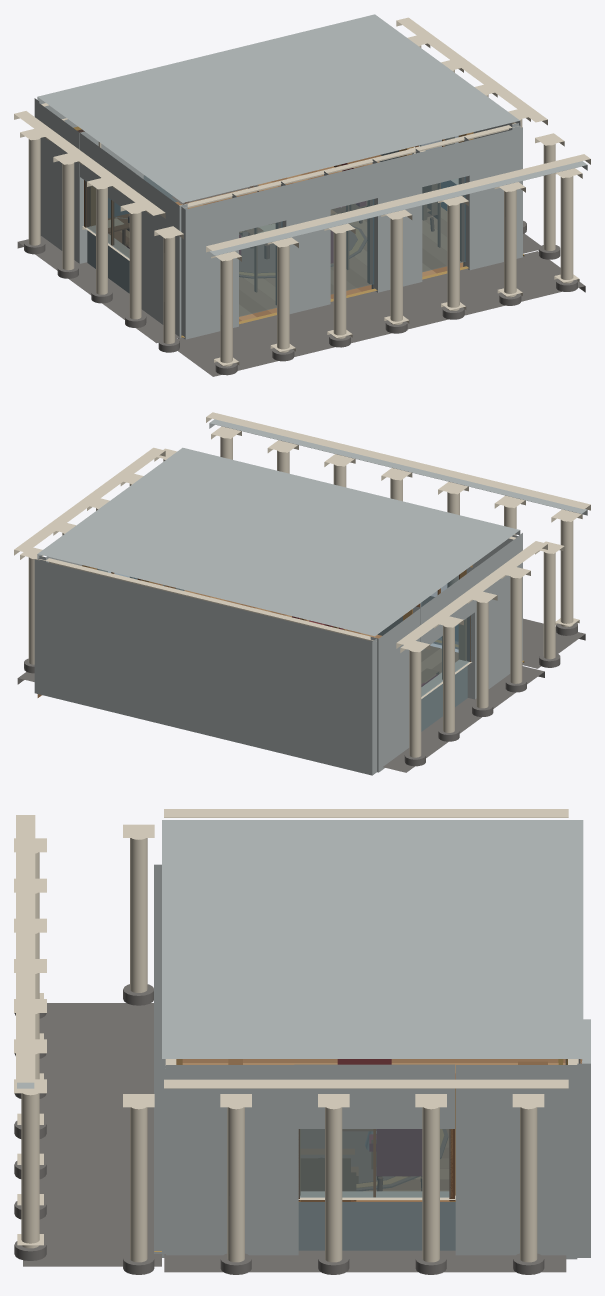
Rendered from saloon.glb.
The picture shows the model from 3 angles, top to bottom: view 1: azimuth 30°, elevation 25°; view 2: azimuth 150°, elevation 25°; view 3: azimuth 270°, elevation 25°; orthographic projection. The views are drawn at different scales.
Visible parts, largest first — view 1: ceiling, lake loggia floor, lake wall pier 0, lake wall pier last, lake wall pier 1, lake wall pier 2, side wall lower rear -1, side wall lower front -1, lake window glass 0, loggia front entablature, lake window glass 1, lake window glass 2 (+27 smaller); view 2: ceiling, rear wall, side wall lower rear -1, side wall lower front -1, loggia front entablature, loggia front fascia, side loggia return -1, side gallery entablature 1, side gallery entablature -1, side window glass -1, rear cornice, side window header -1 (+9 smaller); view 3: ceiling, lake loggia floor, side wall lower front 1, side wall lower rear 1, side window glass 1, side window header 1, side dado 1, side loggia return 1, loggia front entablature, side gallery entablature 1, side gallery entablature -1, rear wall (+13 smaller).
Boxes of the visible parts, x1,y1,x2,y2 form: ceiling: (37, 14, 520, 202); lake loggia floor: (178, 251, 585, 376); lake wall pier 0: (181, 196, 238, 339); lake wall pier last: (464, 127, 522, 270); lake wall pier 1: (281, 174, 330, 313); lake wall pier 2: (372, 152, 422, 292); side wall lower rear -1: (37, 102, 87, 263); side wall lower front -1: (134, 173, 187, 338); lake window glass 0: (239, 221, 282, 316); loggia front entablature: (206, 154, 590, 252); lake window glass 1: (330, 199, 374, 294); lake window glass 2: (422, 176, 465, 271); ceiling: (37, 447, 520, 636); rear wall: (34, 559, 376, 775); side wall lower rear -1: (370, 608, 420, 772); side wall lower front -1: (466, 535, 520, 699); loggia front entablature: (206, 412, 590, 510); loggia front fascia: (209, 419, 587, 515); side loggia return -1: (383, 666, 544, 772); side gallery entablature 1: (14, 447, 165, 555); side gallery entablature -1: (396, 541, 547, 648); side window glass -1: (421, 615, 471, 696); rear cornice: (38, 558, 373, 640); side window header -1: (413, 567, 476, 650); ceiling: (162, 820, 583, 1058); lake loggia floor: (23, 1003, 161, 1266); side wall lower front 1: (166, 1065, 298, 1255); side wall lower rear 1: (455, 1065, 577, 1259); side window glass 1: (299, 1129, 450, 1197); side window header 1: (294, 1064, 454, 1128); side dado 1: (298, 1202, 455, 1250); side loggia return 1: (164, 1250, 566, 1272); loggia front entablature: (16, 815, 35, 1082); side gallery entablature 1: (164, 1079, 568, 1088); side gallery entablature -1: (164, 809, 568, 817); rear wall: (577, 1019, 590, 1257).
Size of the model in its own units: 13.73 by 4.75 by 11.84.
